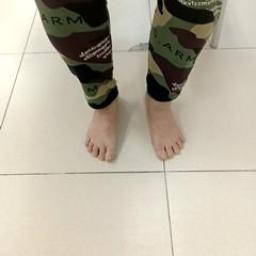Front View -Both Feet-: (56, 79, 202, 176)
